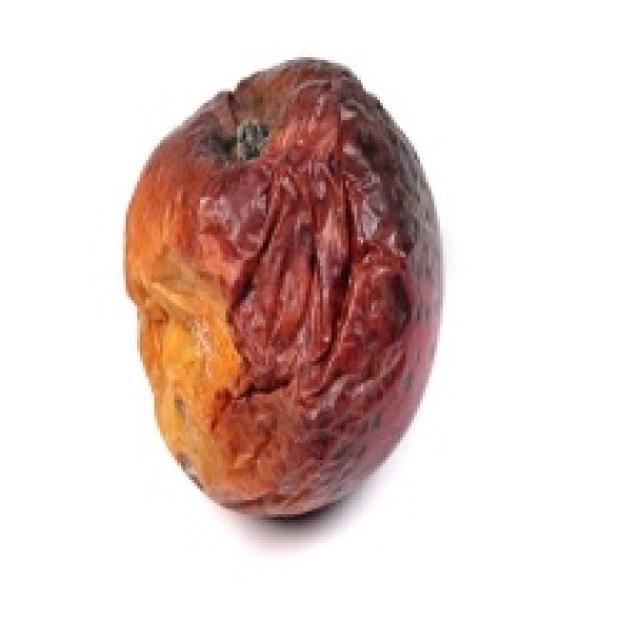rotten_apple: (127, 61, 443, 508)
